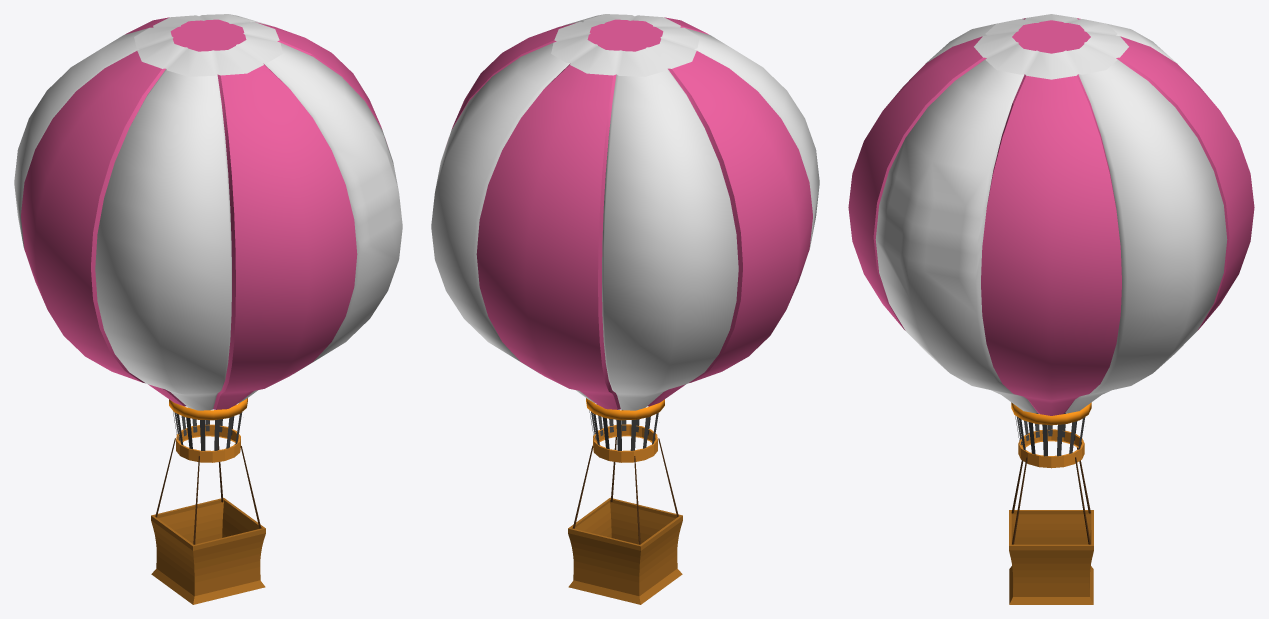
The picture shows the model from 3 angles, left to right: view 1: azimuth 30°, elevation 25°; view 2: azimuth 150°, elevation 25°; view 3: azimuth 270°, elevation 25°; orthographic projection.
Parts seen in each view (by area): view 1: Sphere.004, Sphere.003, Cube, Sphere.001, Cylinder, Sphere.002, Cylinder.001; view 2: Sphere.004, Sphere.003, Cube, Sphere.001, Cylinder, Sphere.002, Cylinder.001; view 3: Sphere.004, Sphere.003, Cube, Sphere.001, Cylinder, Sphere.002, Cylinder.001.
Part boxes in pixels (<box>): Sphere.004: <box>14,14,402,410</box>; Sphere.003: <box>21,17,382,409</box>; Cube: <box>151,497,265,604</box>; Sphere.001: <box>176,424,240,462</box>; Cylinder: <box>173,411,242,450</box>; Sphere.002: <box>169,398,247,420</box>; Cylinder.001: <box>155,438,261,544</box>; Sphere.004: <box>431,14,819,410</box>; Sphere.003: <box>451,17,812,409</box>; Cube: <box>568,497,682,604</box>; Sphere.001: <box>593,424,657,462</box>; Cylinder: <box>589,404,658,450</box>; Sphere.002: <box>586,398,664,420</box>; Cylinder.001: <box>572,437,678,544</box>; Sphere.004: <box>875,14,1227,413</box>; Sphere.003: <box>848,18,1254,415</box>; Cube: <box>1009,510,1093,604</box>; Sphere.001: <box>1018,429,1084,468</box>; Cylinder: <box>1015,413,1085,456</box>; Sphere.002: <box>1011,402,1091,425</box>; Cylinder.001: <box>1011,447,1090,544</box>.
Bounding box in the file's own units: 212 × 316 × 212.
